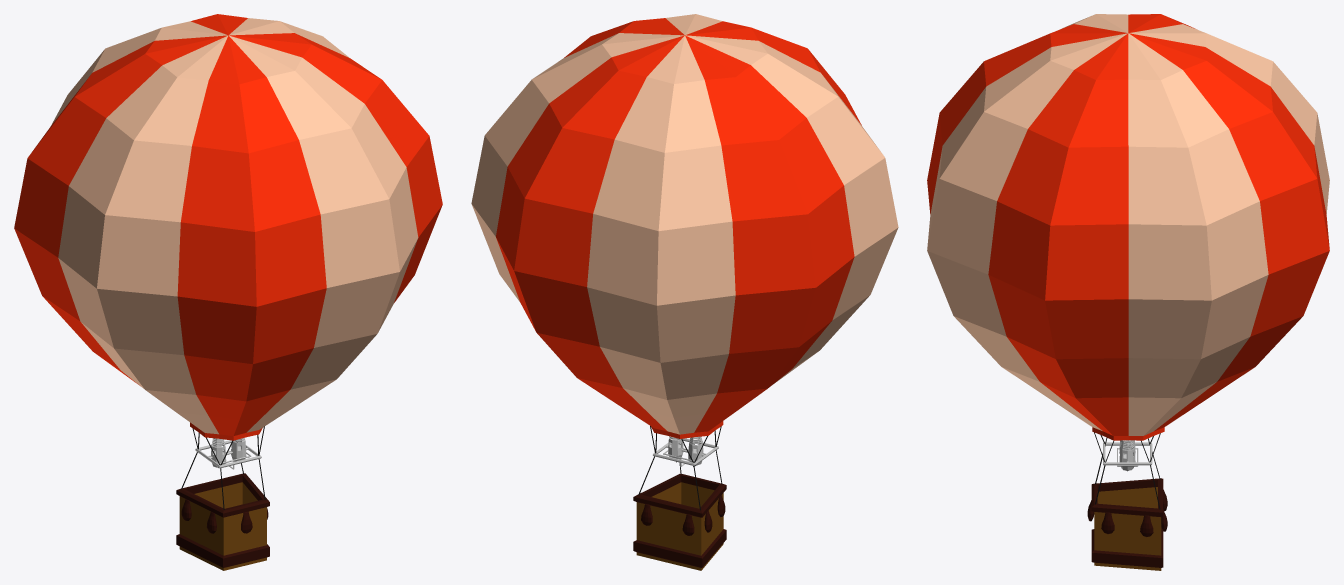
File: HotAirBalloon_01.FBX
The picture shows the model from 3 angles, left to right: view 1: azimuth 30°, elevation 25°; view 2: azimuth 150°, elevation 25°; view 3: azimuth 270°, elevation 25°; orthographic projection.
Parts seen in each view (by area): view 1: HotAirBalloon_01, basket; view 2: HotAirBalloon_01, basket; view 3: HotAirBalloon_01, basket.
Part boxes in pixels (box(x1,y1,x2,y2)): HotAirBalloon_01: box(14, 14, 442, 469); basket: box(176, 473, 269, 570); HotAirBalloon_01: box(471, 14, 898, 467); basket: box(633, 473, 726, 570); HotAirBalloon_01: box(927, 14, 1329, 466); basket: box(1091, 478, 1163, 570).
Bounding box in the file's own units: 96.1 × 96.1 × 137.
